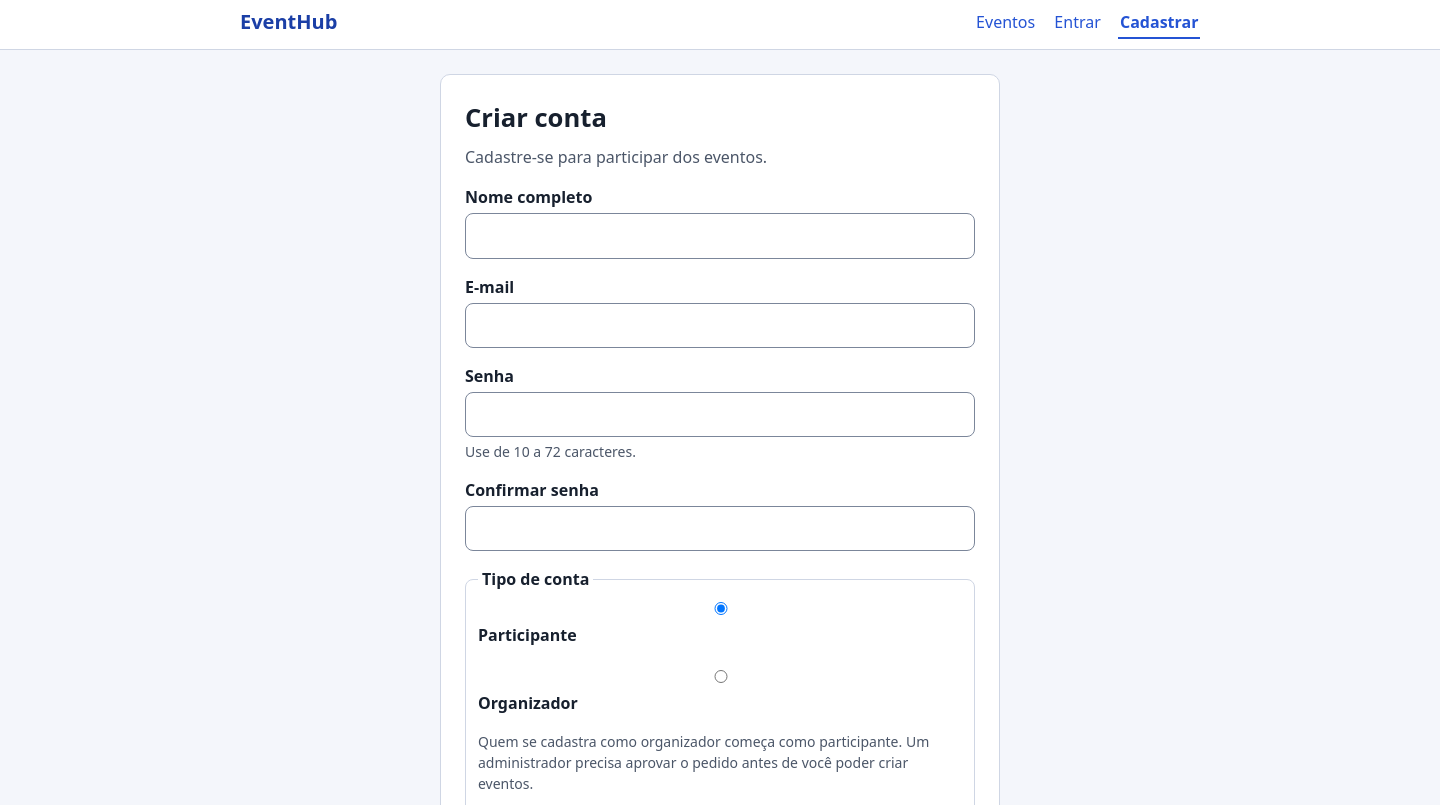
Test case: Página de cadastro › cadastra, envia só nome, e-mail e senha, e leva ao login com aviso de sucesso
This screenshot has width=1440, height=805.
In the field labelled "Nome completo": coordinates (720, 236) top-left (465, 213), bottom-right (975, 259), type "Maria Silva"
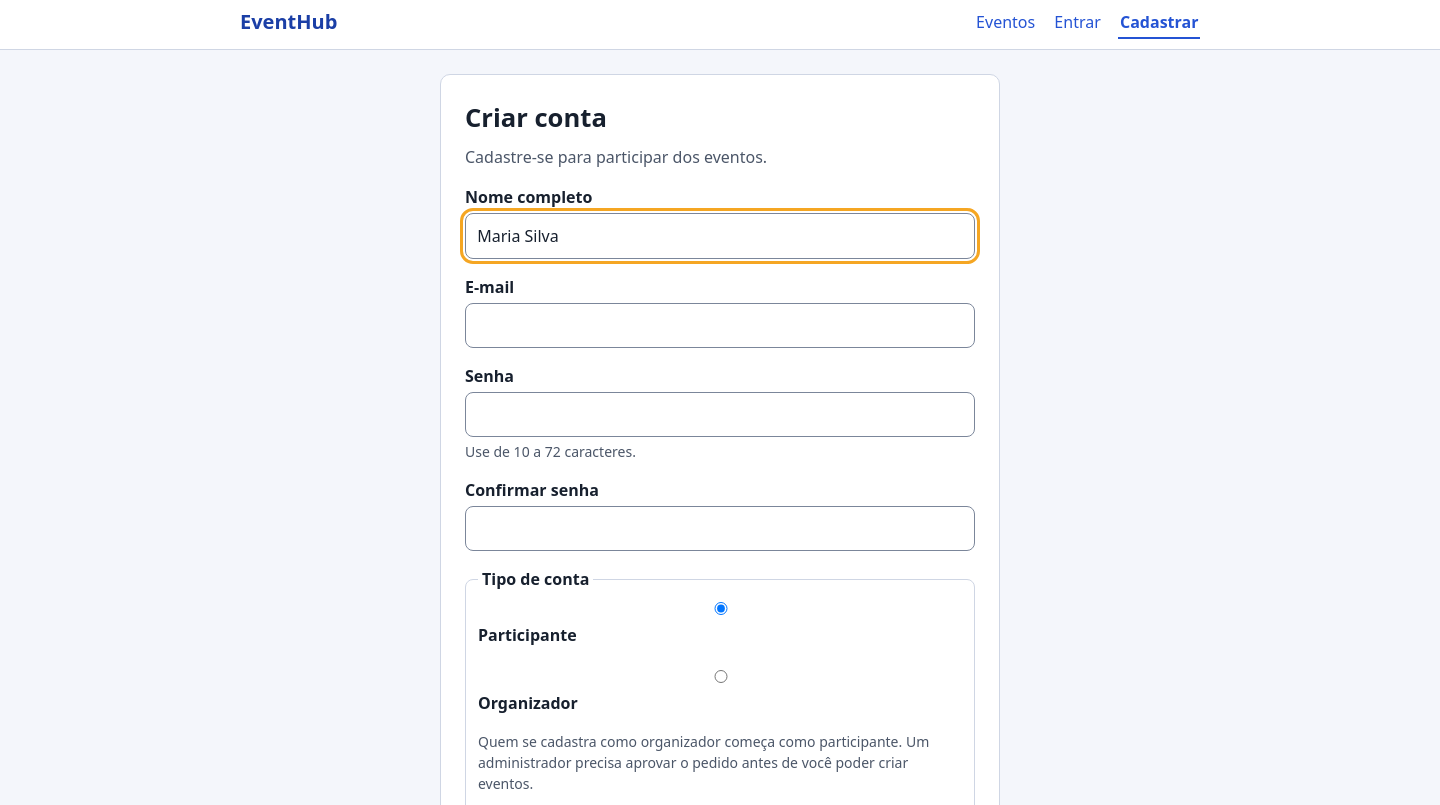
In the field labelled "E-mail": coordinates (720, 325) top-left (465, 303), bottom-right (975, 348), type "maria@example.com"
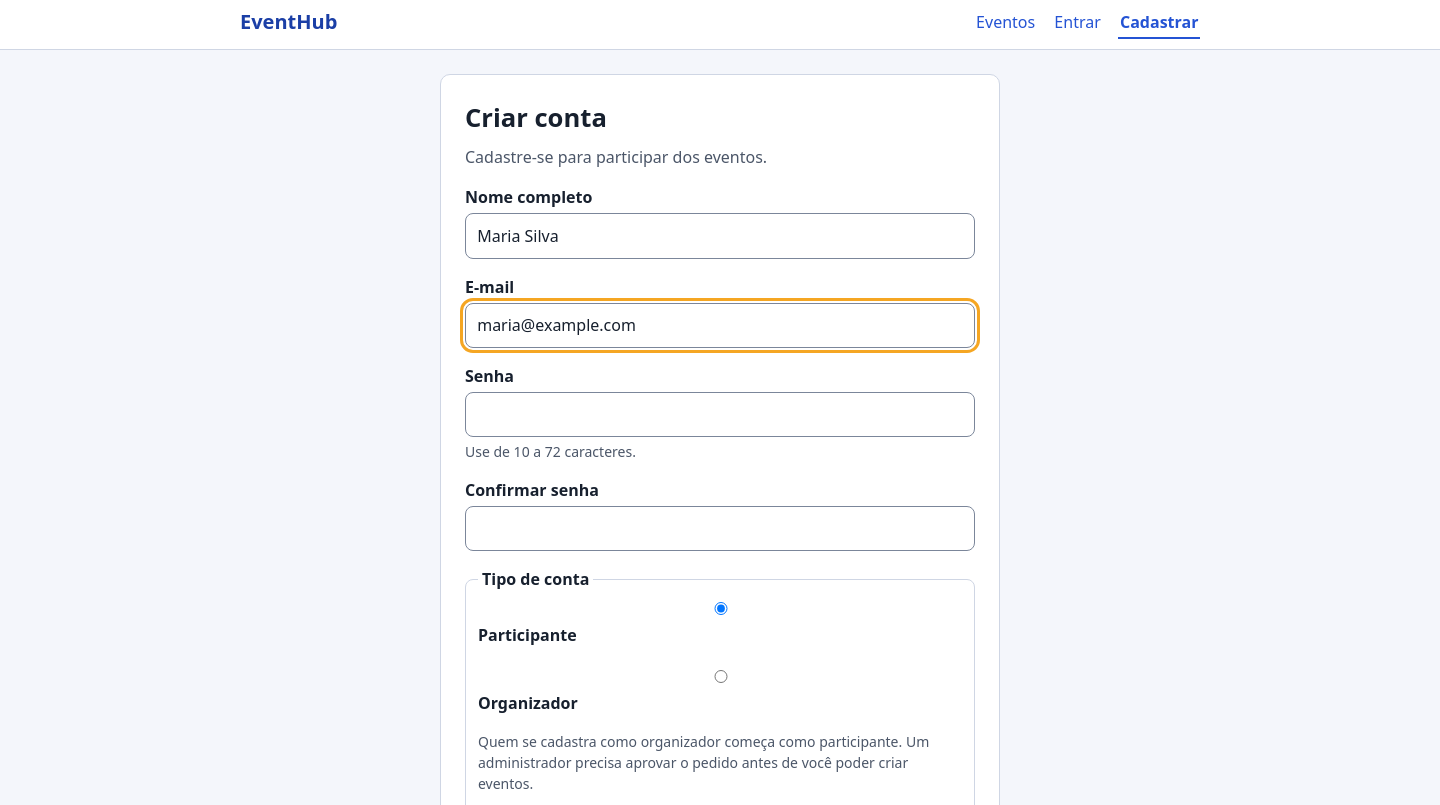
In the password field labelled "Senha": coordinates (720, 414) top-left (465, 392), bottom-right (975, 437), type "senha-forte-123"
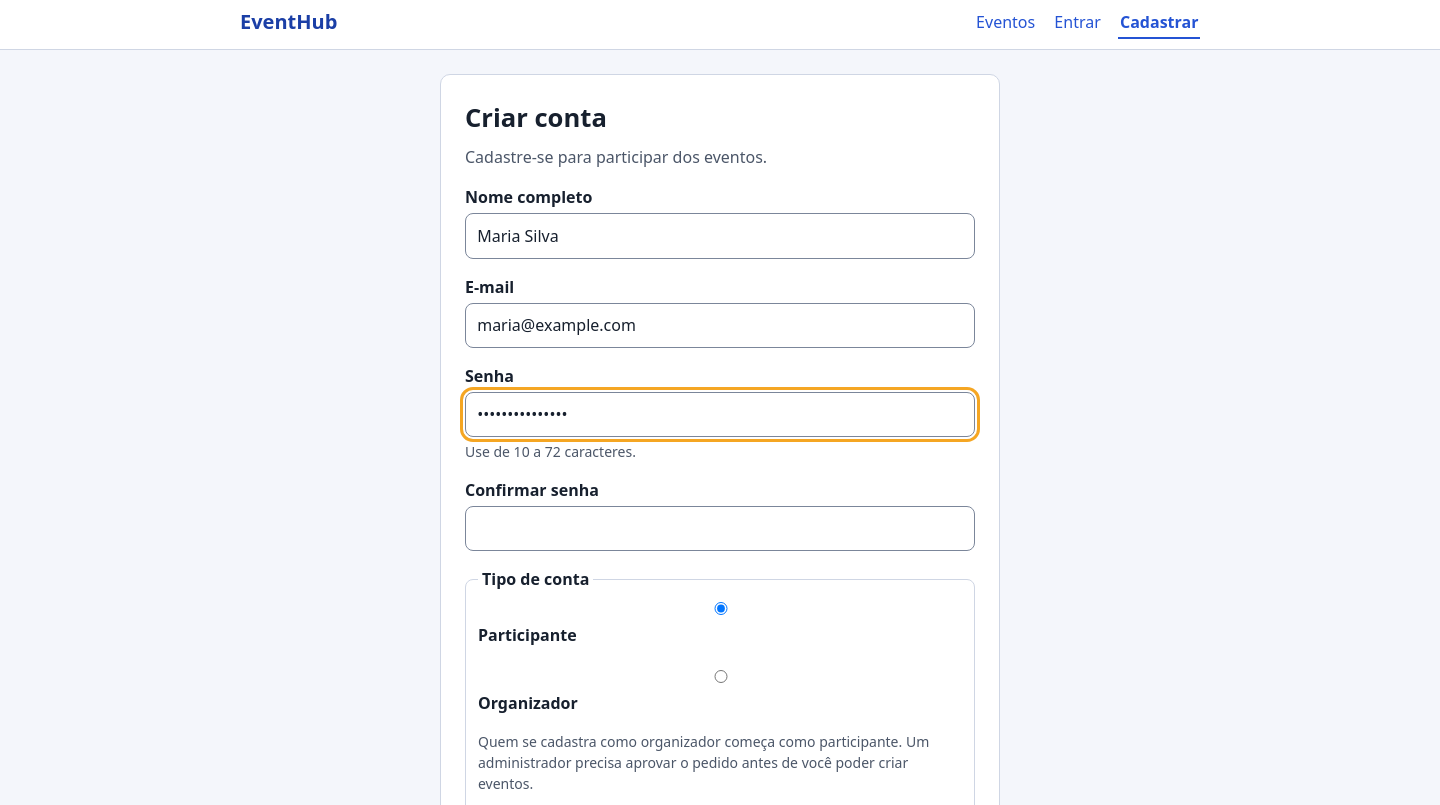
In the password field labelled "Confirmar senha": coordinates (720, 529) top-left (465, 506), bottom-right (975, 551), type "senha-forte-123"
(page scrolled)
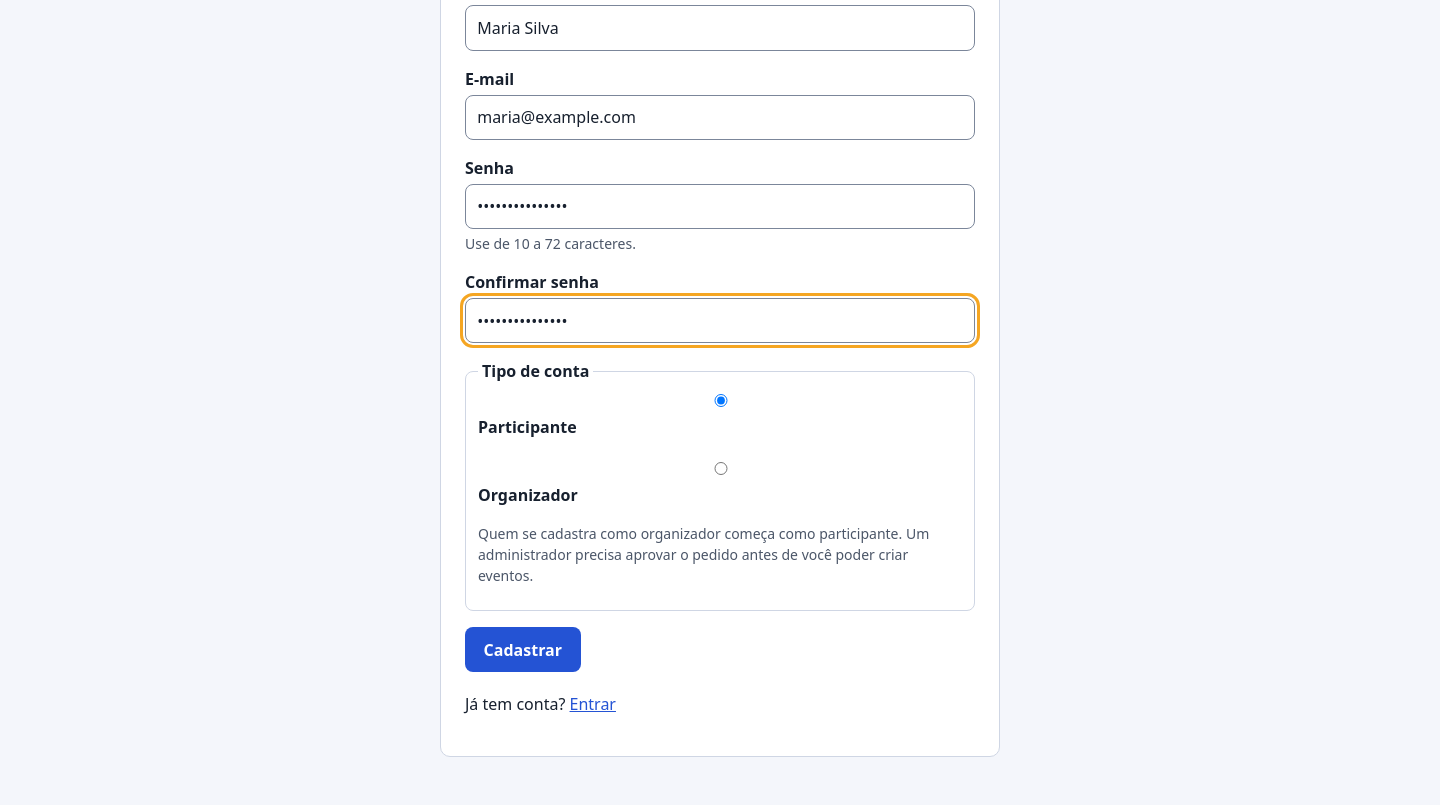
Click the button "Cadastrar": coordinates (523, 650) top-left (465, 627), bottom-right (581, 672)
(page scrolled)
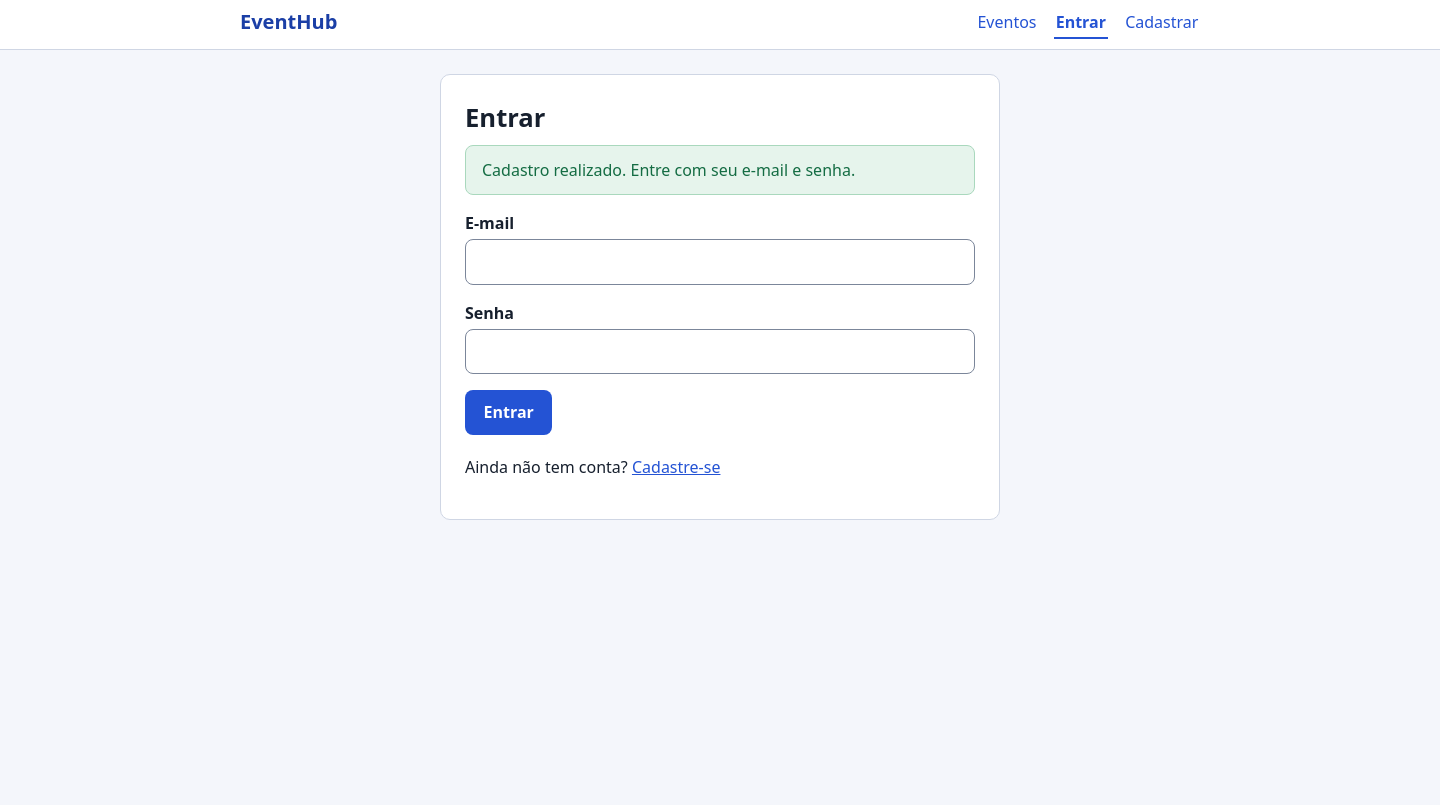
Expected: the heading "Entrar" is shown, top-left (465, 100), bottom-right (546, 135)
Expected: the text "Cadastro realizado. Entre com seu e-mail e senha." is shown, top-left (482, 159), bottom-right (855, 181)
